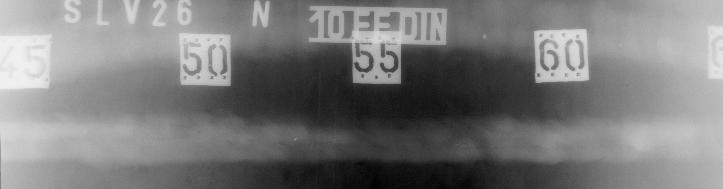FF: (223, 110, 525, 158), (148, 121, 202, 142)
FP: (366, 136, 514, 152)
